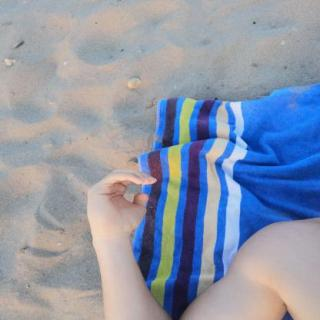JEEM: (74, 163, 164, 242)
